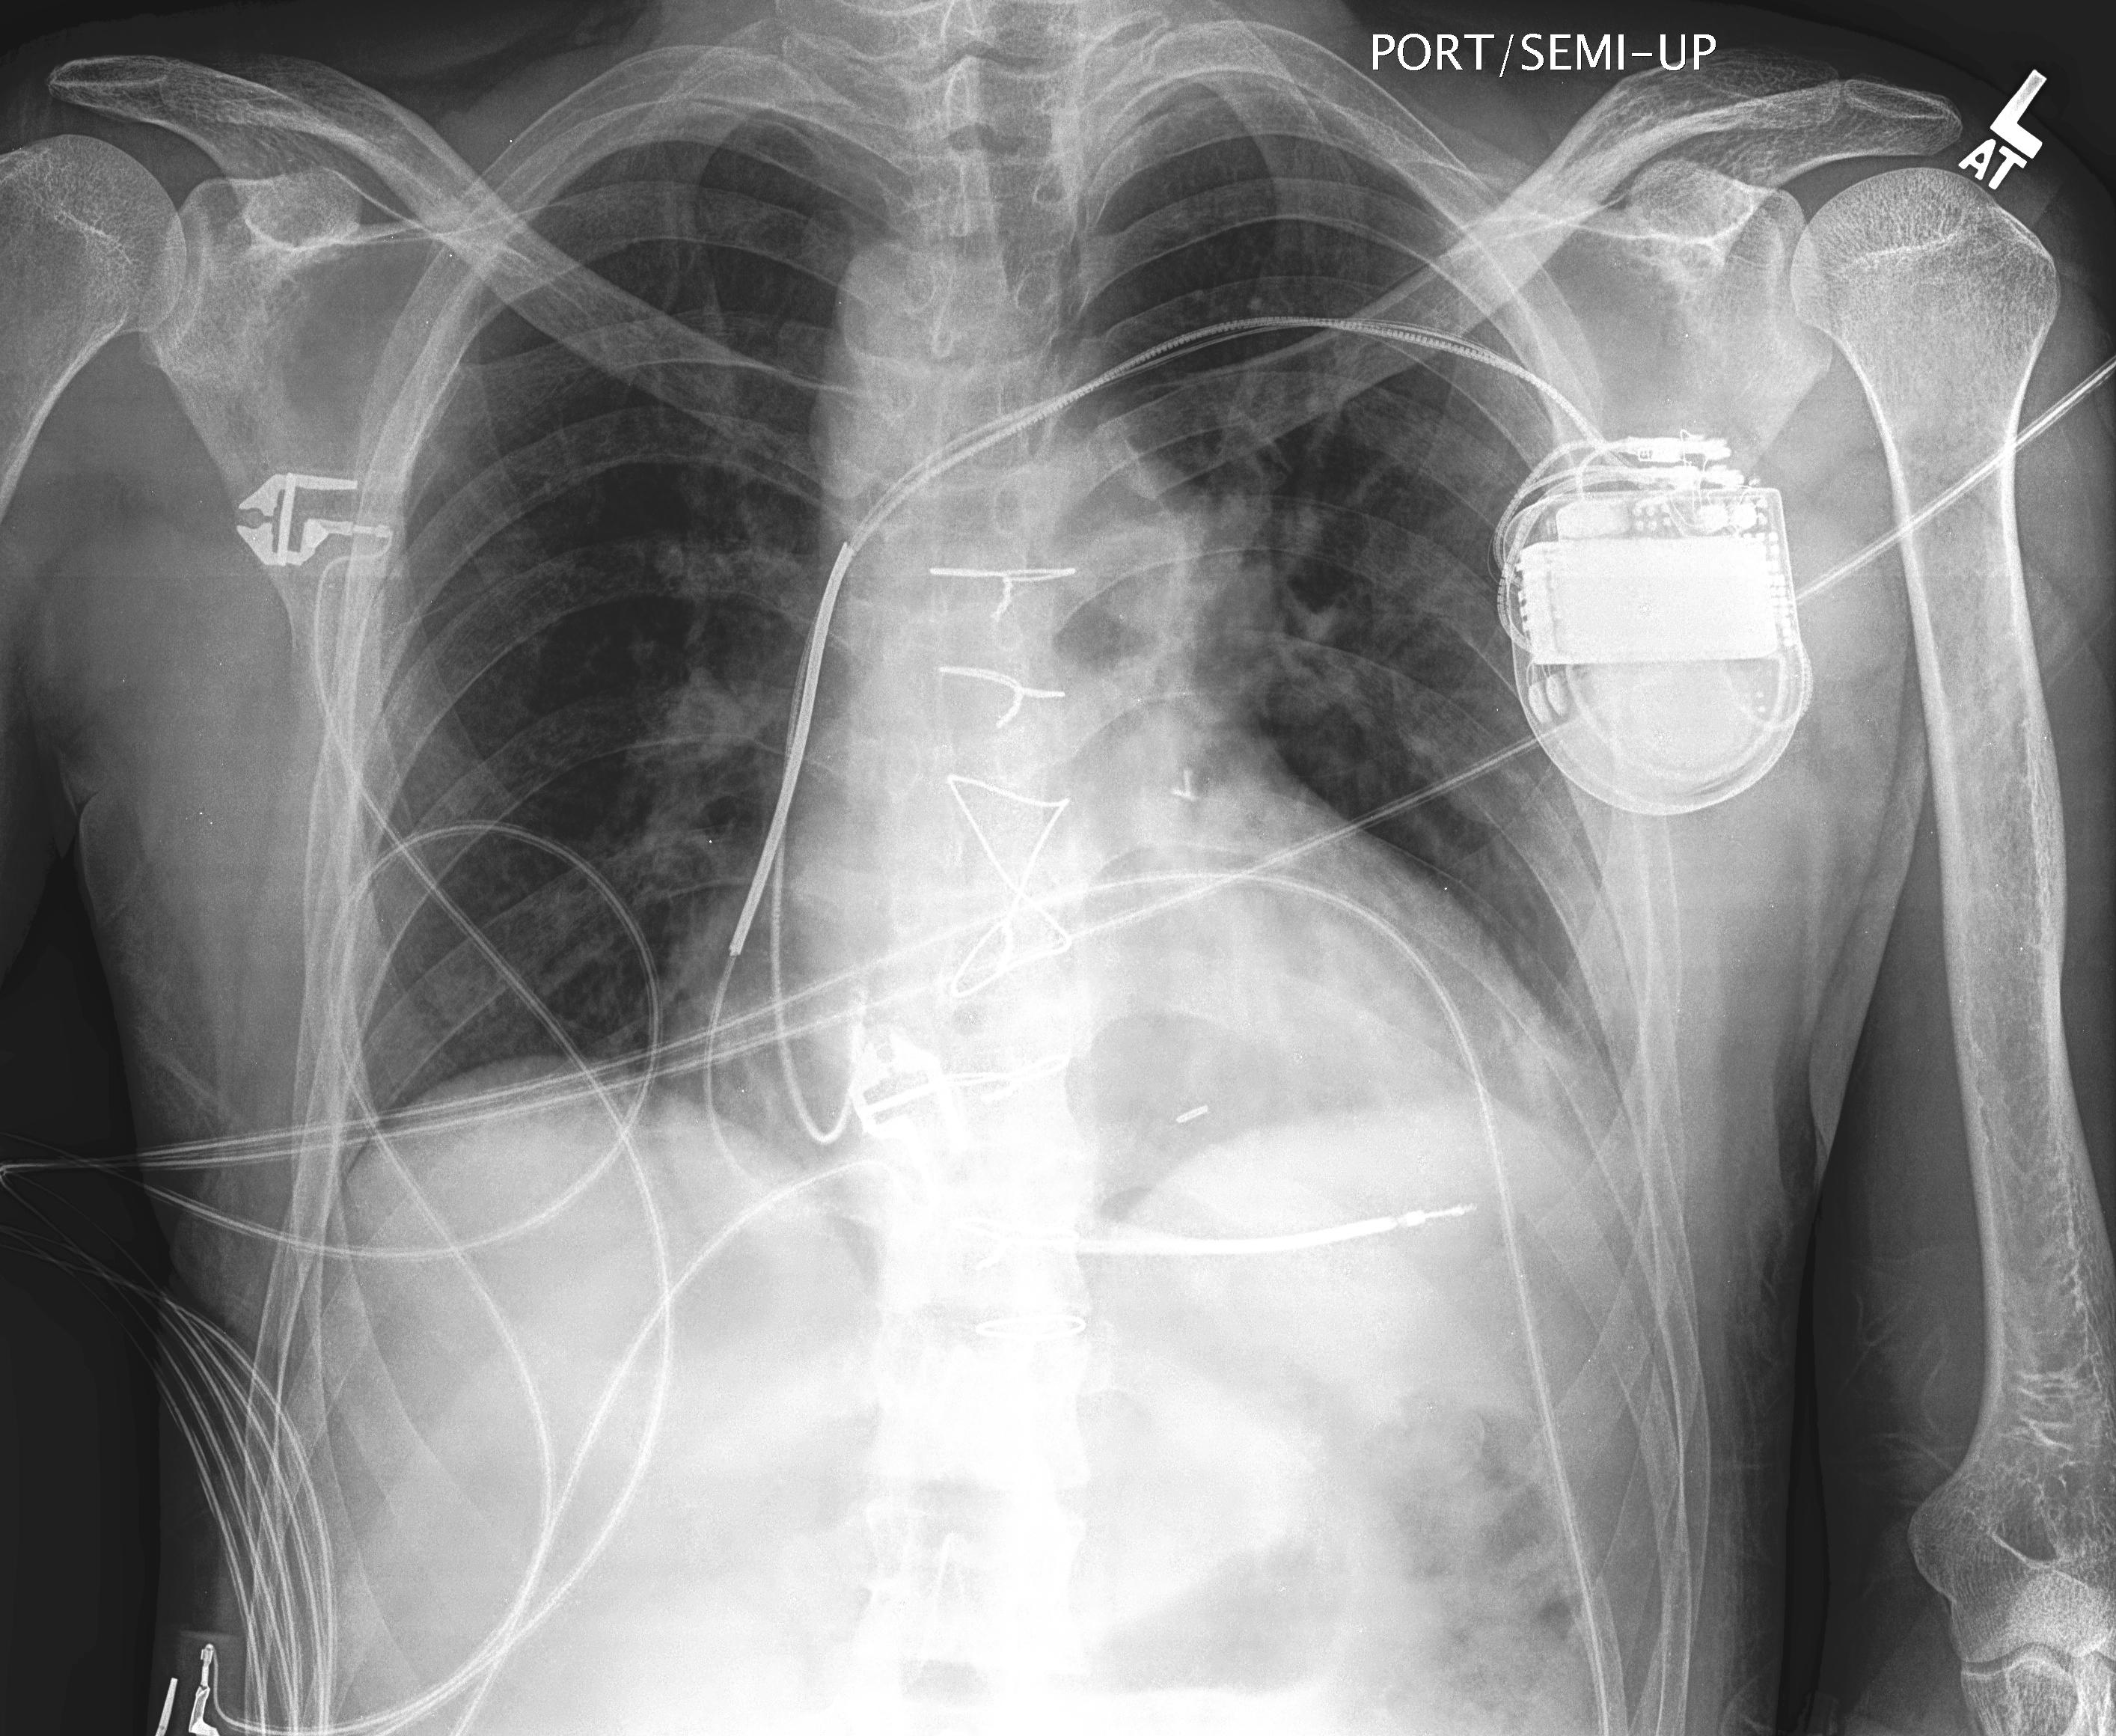Pleural Effusion: (1343, 1019, 1733, 1413)
